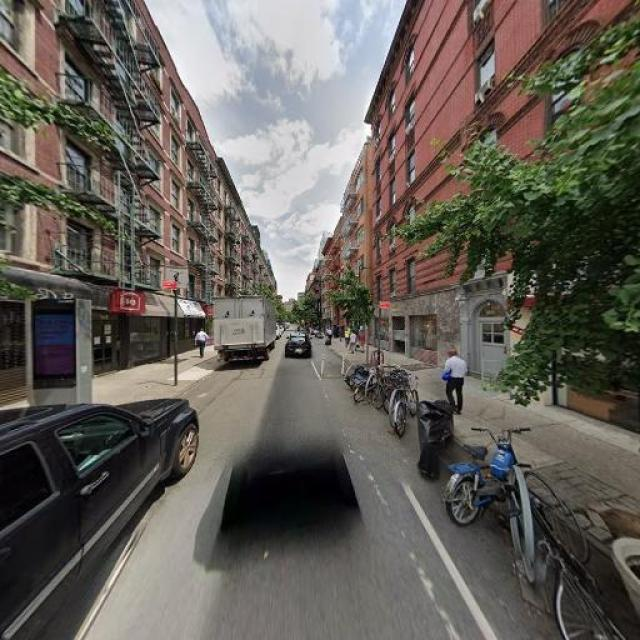Building: (370, 1, 640, 440), (1, 1, 213, 404), (344, 147, 367, 347)
